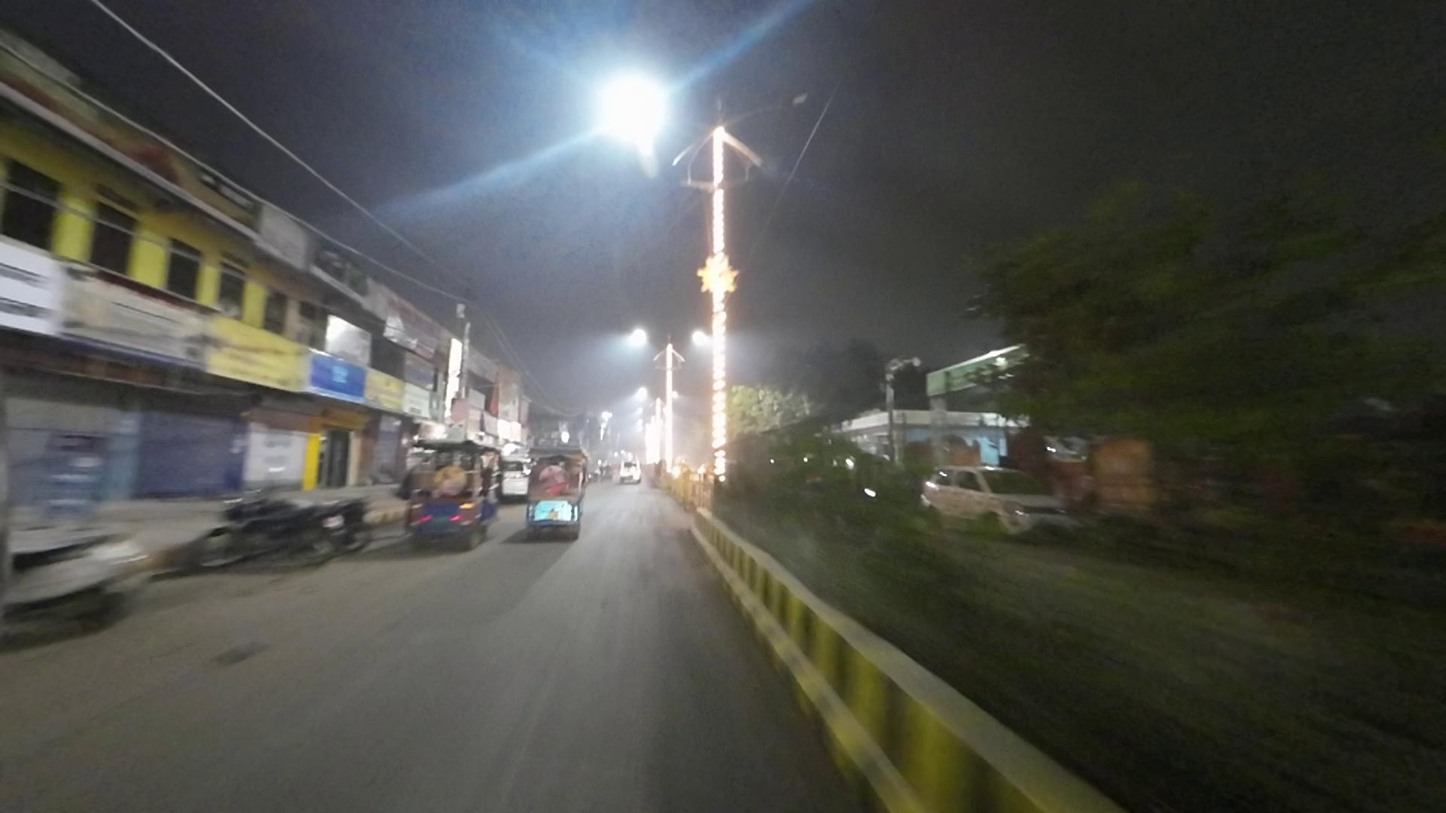streetlight: (732, 86, 811, 115)
